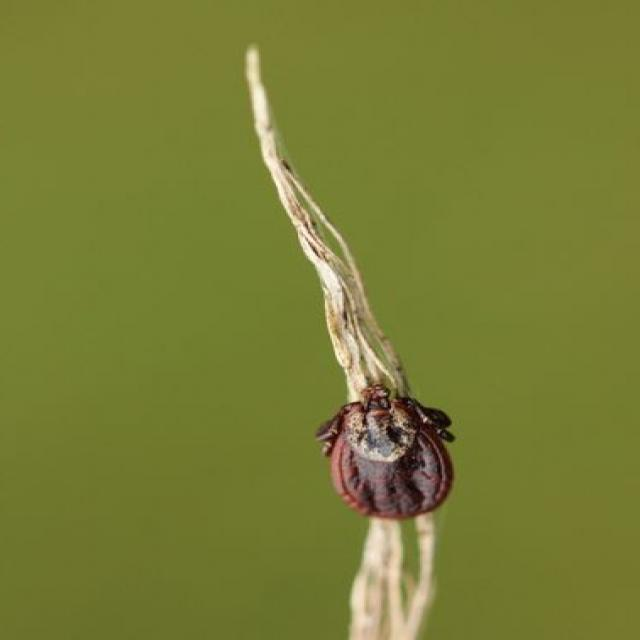Dermacentor Reticulatus-F: (315, 385, 457, 520)
